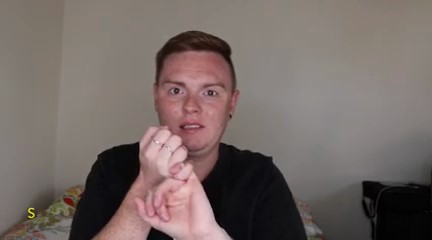S: (132, 121, 213, 239)
